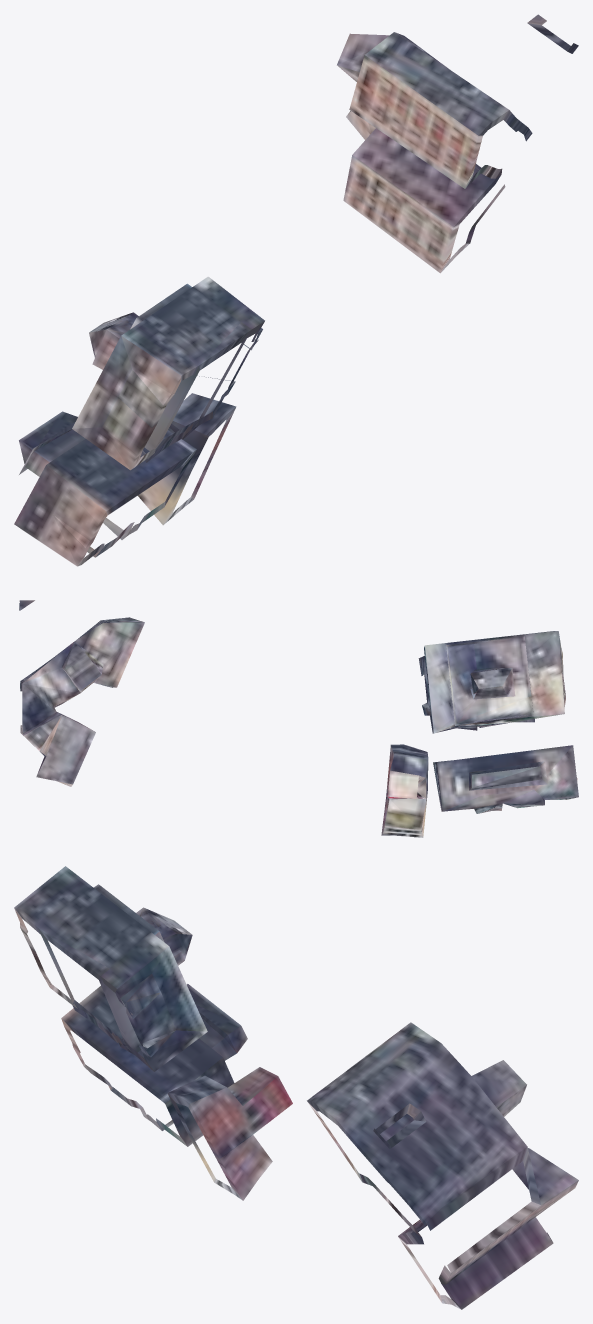
The picture shows the model from 3 angles, top to bottom: view 1: azimuth 30°, elevation 25°; view 2: azimuth 150°, elevation 25°; view 3: azimuth 270°, elevation 25°; orthographic projection. The views are drawn at different scales.
Size of the model in its own units: 129 by 56.39 by 95.92.
1 material, 1 textured.
